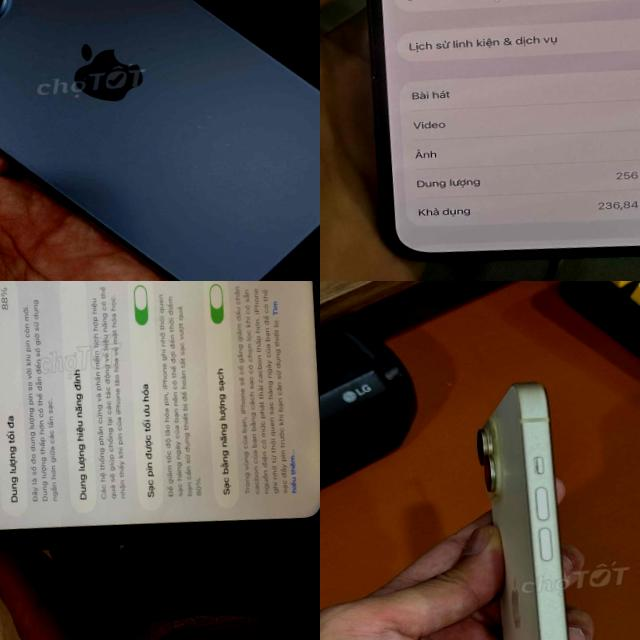gen_11: (0, 281, 320, 625)
gen_14: (341, 0, 640, 278)
gen_15: (0, 0, 320, 281), (437, 375, 611, 640)
